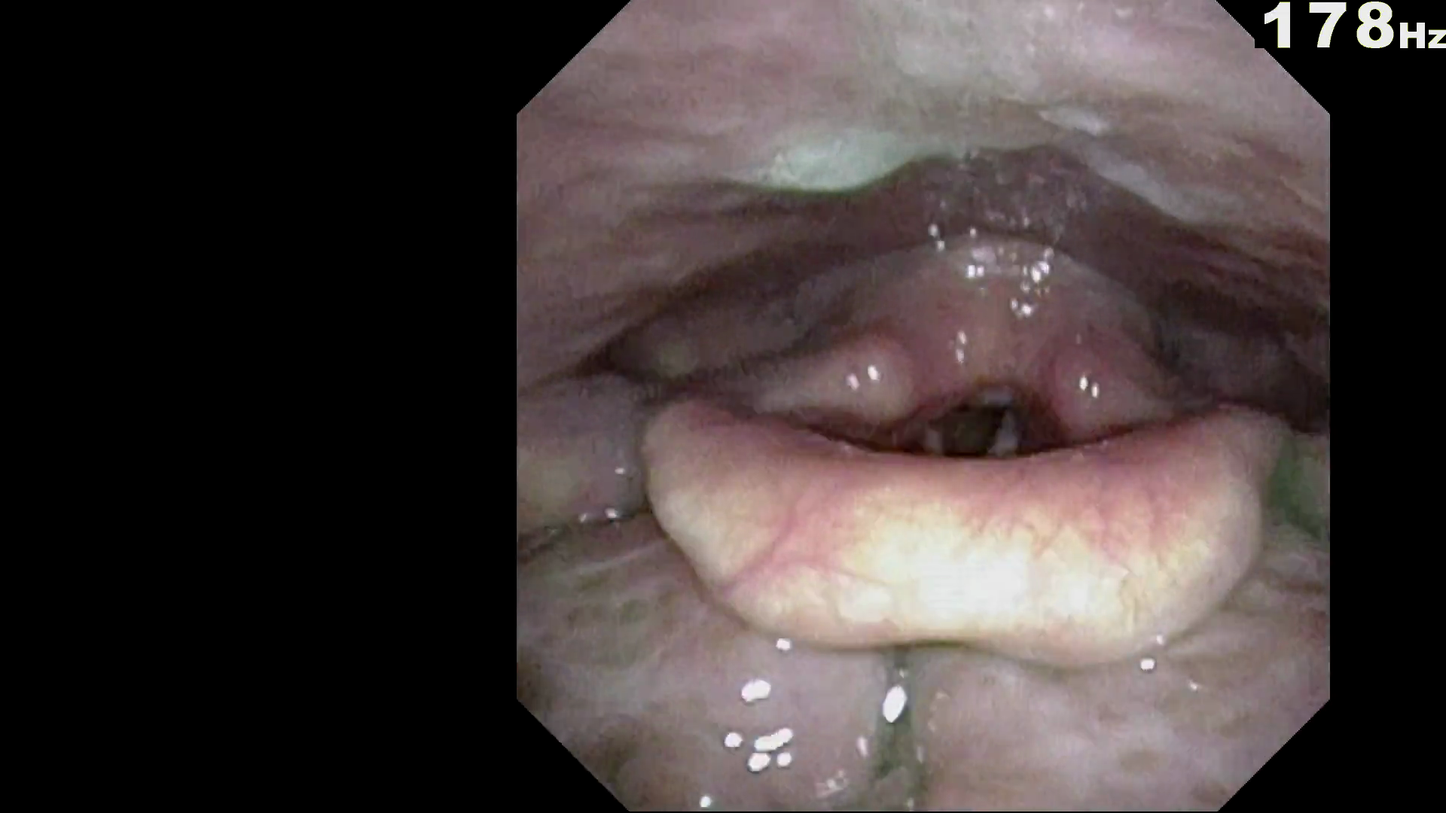epiglottis: (667, 416, 1273, 607)
trachea: (896, 380, 1050, 463)
